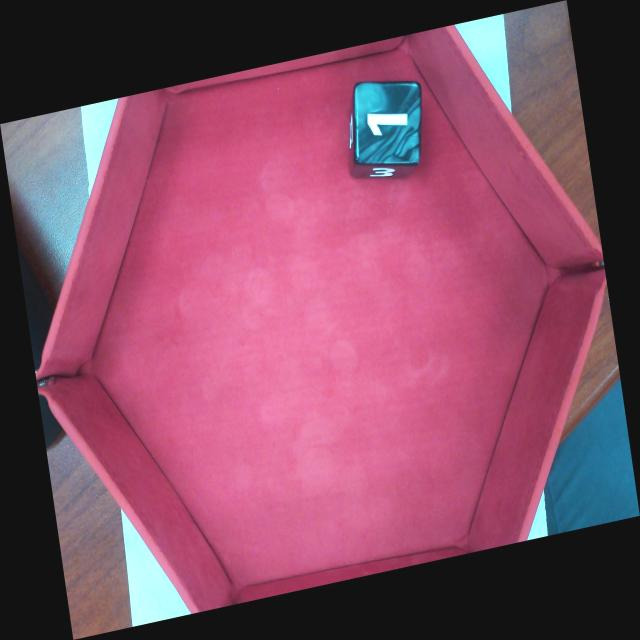dice: (356, 82, 417, 162)
